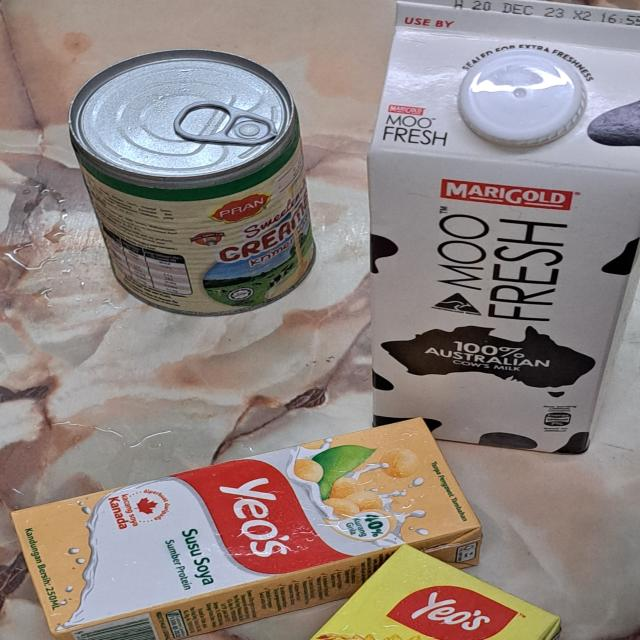can: (71, 50, 316, 318)
drink carton: (366, 0, 640, 457), (10, 416, 483, 640), (316, 544, 559, 640)
plastic bottle cap: (460, 53, 587, 151)
pop tab: (174, 98, 280, 148)
